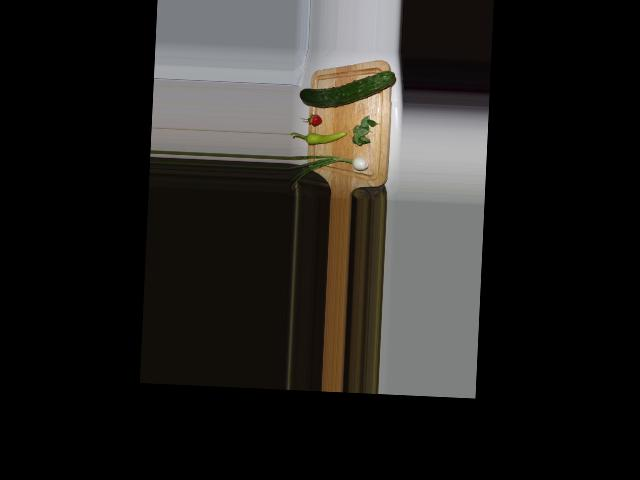cucumber: (299, 66, 395, 110)
